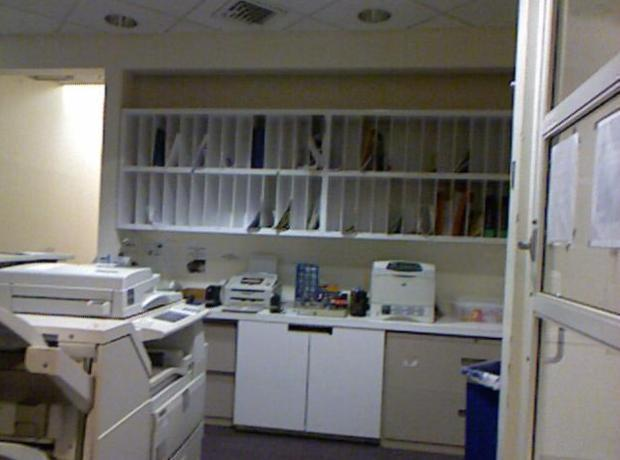Bote de Basura: (457, 355, 502, 456)
